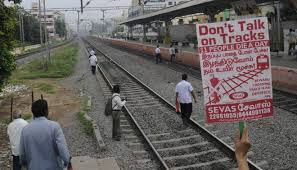crossing railway track: (25, 97, 70, 170), (4, 107, 28, 170), (104, 83, 128, 143), (173, 73, 198, 127), (87, 54, 100, 76), (153, 45, 164, 64), (86, 47, 97, 66), (167, 44, 177, 61)
